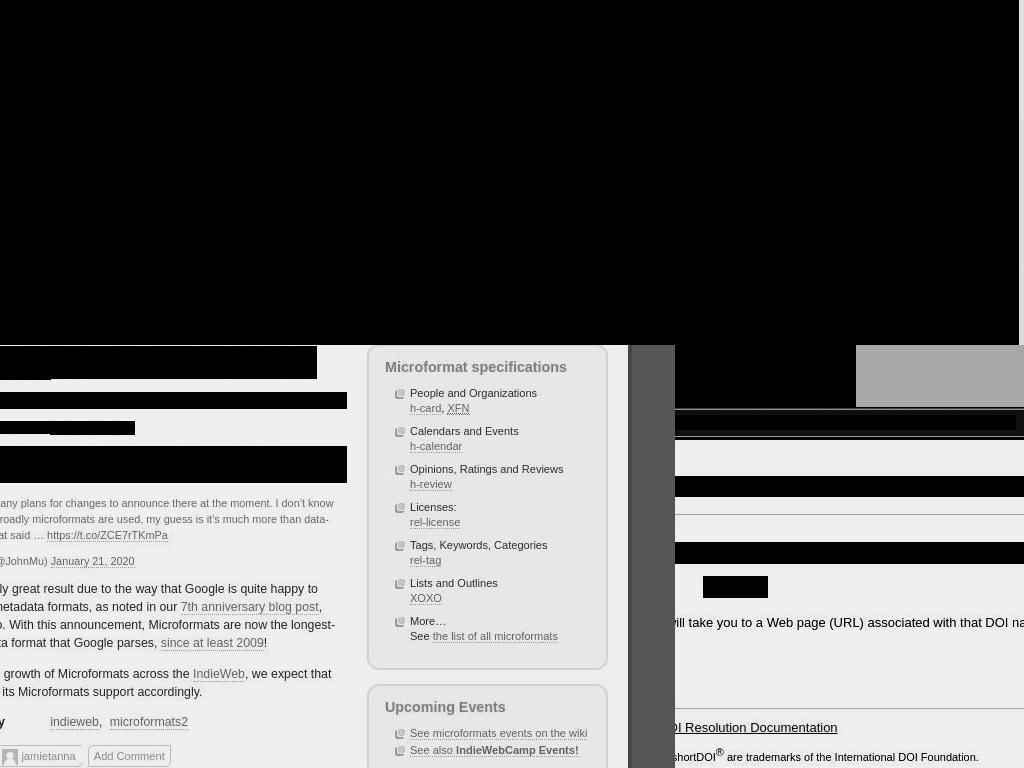button: (410, 727, 587, 741), (410, 744, 579, 758), (180, 600, 319, 616), (87, 745, 171, 768), (0, 745, 82, 768), (895, 415, 1016, 430), (432, 630, 558, 644), (47, 528, 169, 542), (160, 636, 264, 652), (109, 714, 188, 730), (50, 421, 135, 435), (50, 555, 135, 569), (675, 415, 739, 430), (753, 415, 814, 430), (193, 666, 246, 682), (827, 415, 882, 430), (0, 364, 51, 380), (50, 714, 100, 730), (410, 440, 462, 454), (410, 516, 460, 530), (410, 478, 452, 492), (410, 592, 442, 606), (410, 402, 441, 416), (410, 554, 441, 568), (447, 402, 471, 416)
field: (675, 542, 1024, 564), (703, 576, 768, 598)
heading: (0, 191, 584, 235), (0, 5, 184, 67), (675, 476, 1024, 497), (385, 359, 590, 376), (385, 699, 590, 716), (5, 5, 70, 32)
image: (0, 0, 675, 345), (675, 0, 1019, 345), (0, 325, 641, 345), (675, 437, 1024, 440), (2, 749, 19, 766)
link: (675, 720, 838, 735), (456, 744, 580, 757), (447, 402, 471, 416)
text: (0, 600, 335, 651), (0, 496, 333, 541), (0, 446, 347, 483), (0, 666, 331, 699), (0, 582, 318, 615), (0, 346, 317, 379), (675, 646, 1024, 667), (0, 392, 347, 409), (675, 615, 1024, 631), (50, 364, 312, 379), (723, 750, 979, 763), (395, 386, 590, 402), (395, 424, 590, 440), (395, 462, 590, 478), (395, 500, 590, 516), (395, 538, 590, 554), (395, 576, 590, 592), (395, 614, 590, 630), (0, 666, 193, 681), (18, 750, 77, 763), (0, 421, 51, 434), (0, 555, 51, 568), (410, 744, 456, 757), (675, 750, 716, 763), (410, 630, 433, 643), (739, 415, 754, 430), (813, 415, 828, 430), (881, 415, 896, 430), (98, 714, 106, 729), (715, 746, 724, 758), (441, 402, 448, 415), (263, 636, 267, 651)
